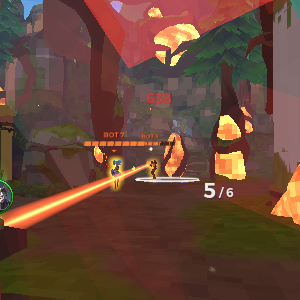model: (108, 153, 124, 191), (147, 159, 162, 182)
